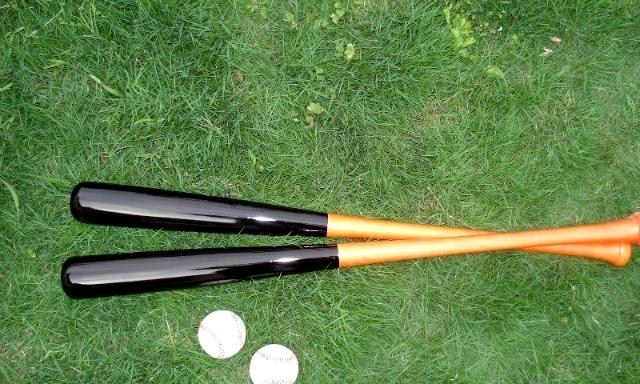baseball bat: (32, 120, 640, 314)
